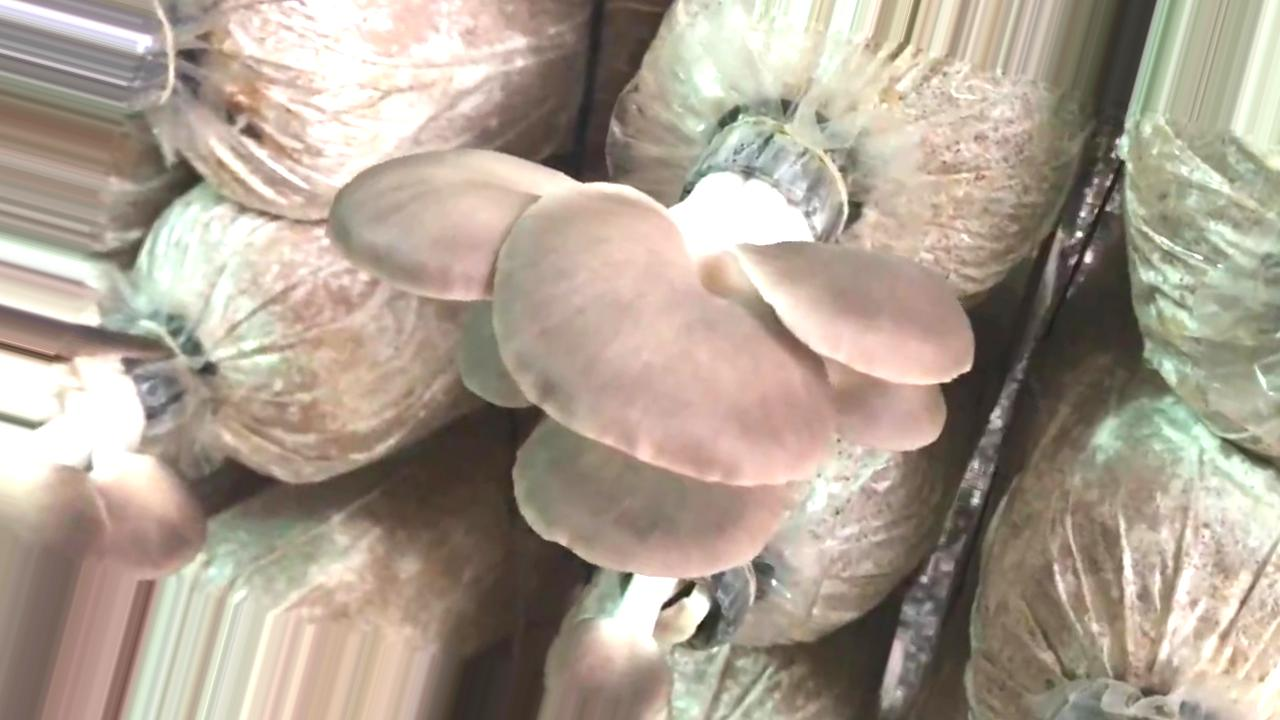nam: (321, 123, 973, 578), (1, 327, 202, 720), (545, 549, 766, 719)
